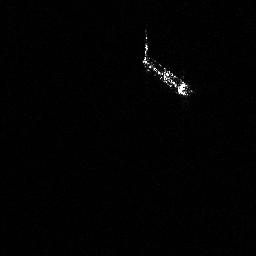ship: (139, 28, 195, 98)
